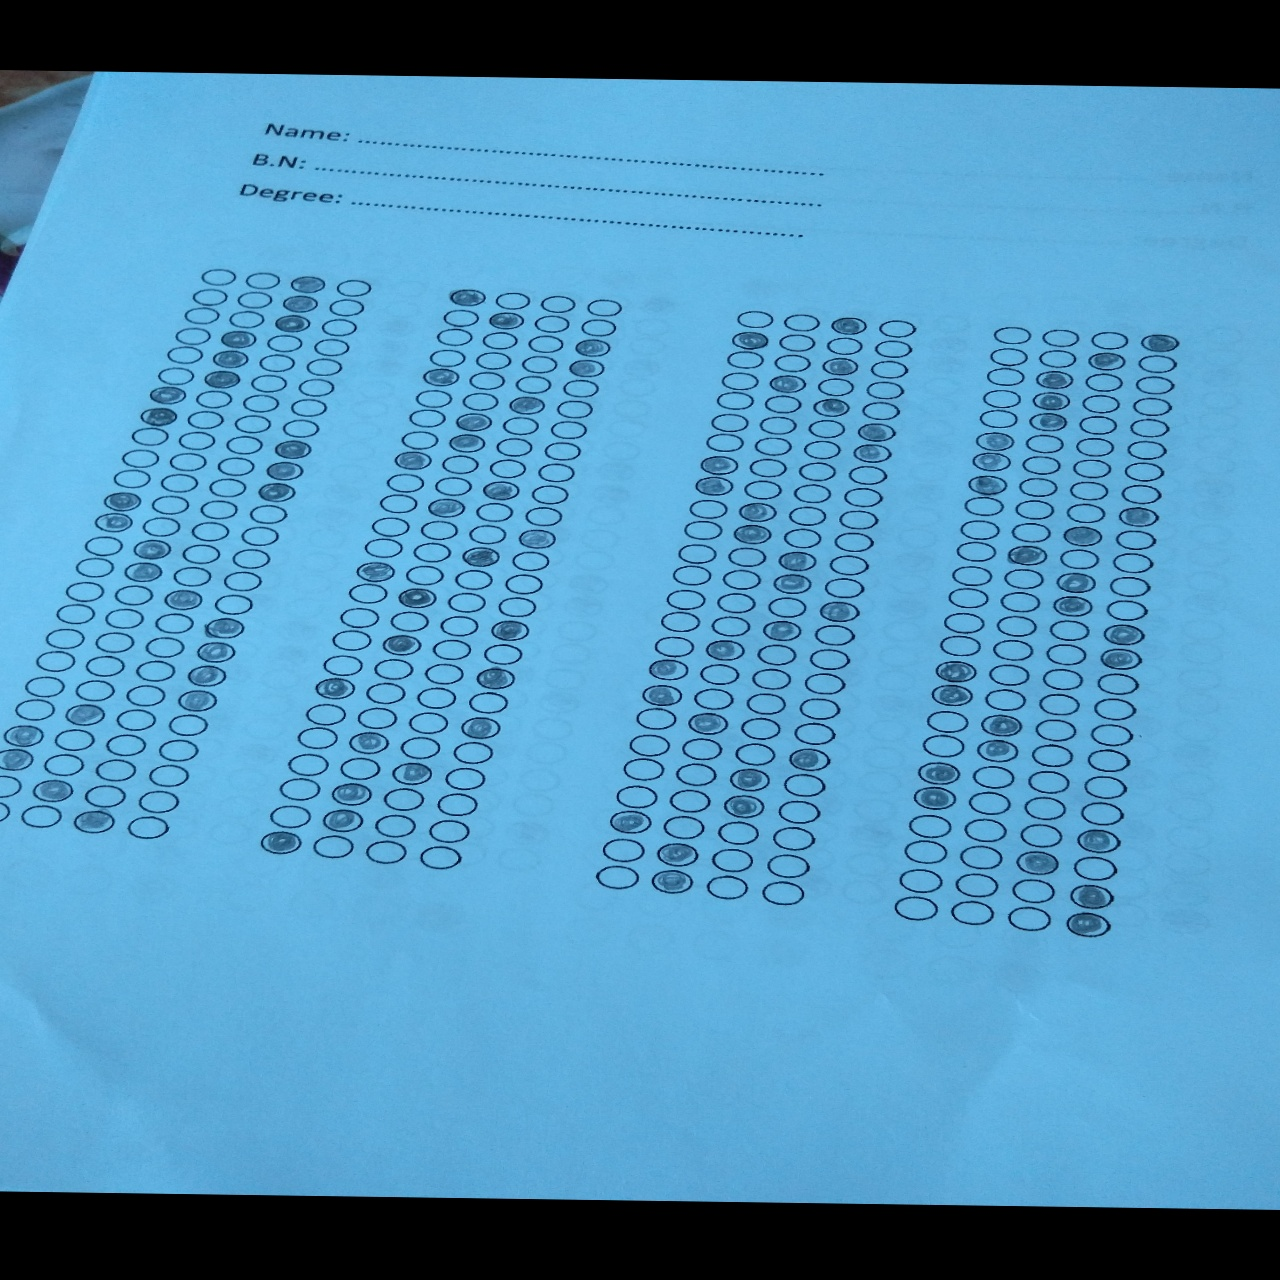not-c: (594, 864, 641, 891), (765, 852, 812, 879), (1010, 877, 1057, 904), (703, 874, 751, 900), (708, 847, 754, 874), (771, 825, 817, 852), (903, 838, 949, 864), (948, 899, 995, 925), (953, 872, 1000, 898), (381, 787, 425, 813), (442, 767, 486, 794), (275, 777, 321, 803), (295, 726, 341, 751), (760, 880, 805, 906), (715, 819, 761, 845), (1095, 670, 1141, 696), (1019, 822, 1064, 847), (907, 813, 953, 839), (898, 869, 944, 894), (958, 844, 1003, 870), (1006, 905, 1051, 931), (355, 704, 399, 731), (783, 772, 826, 799), (798, 696, 842, 723), (125, 815, 170, 840), (309, 835, 354, 860), (418, 844, 463, 870), (372, 813, 416, 839), (336, 756, 381, 782), (667, 788, 712, 813), (776, 799, 821, 825), (662, 815, 707, 840), (1080, 801, 1124, 826), (964, 817, 1008, 843), (893, 896, 938, 921), (1073, 856, 1117, 881), (435, 792, 481, 817), (1033, 717, 1078, 742), (83, 783, 127, 809), (267, 804, 311, 830), (399, 735, 442, 761), (302, 701, 346, 727), (622, 756, 666, 782), (617, 783, 660, 809), (792, 720, 836, 745), (692, 686, 735, 712), (921, 734, 965, 760), (1083, 774, 1126, 799), (19, 804, 63, 829), (365, 839, 409, 864), (428, 819, 472, 844), (450, 741, 495, 765), (286, 753, 331, 777), (414, 686, 458, 710), (320, 653, 365, 678), (387, 608, 431, 633), (347, 581, 392, 606), (501, 571, 545, 595), (987, 662, 1032, 687), (1041, 667, 1085, 692), (1085, 748, 1130, 772), (1022, 796, 1067, 821), (602, 837, 645, 863), (406, 710, 449, 735), (467, 690, 510, 715), (430, 638, 474, 662), (331, 628, 374, 653), (402, 563, 445, 587), (803, 670, 846, 695), (750, 666, 794, 690), (733, 741, 776, 765), (674, 762, 717, 787), (1094, 696, 1137, 721), (1039, 692, 1082, 716), (1028, 769, 1071, 794), (422, 662, 467, 686), (481, 642, 525, 666), (338, 606, 382, 629), (436, 614, 481, 638), (493, 595, 538, 619), (983, 688, 1028, 712), (925, 709, 969, 733), (971, 765, 1015, 789), (74, 556, 116, 580), (104, 733, 147, 757), (812, 622, 855, 647), (744, 692, 787, 716), (808, 648, 853, 670), (53, 728, 96, 751), (157, 738, 200, 762), (148, 764, 191, 788), (94, 758, 137, 782), (137, 790, 181, 813), (363, 681, 407, 704), (444, 591, 488, 614), (450, 567, 493, 591), (823, 576, 866, 599), (670, 564, 714, 587), (659, 610, 702, 633), (634, 707, 678, 730), (680, 736, 723, 760), (697, 663, 741, 687), (1030, 743, 1074, 767), (1089, 724, 1132, 748), (968, 790, 1012, 813), (182, 542, 223, 566), (113, 583, 154, 607), (720, 568, 764, 591), (222, 568, 264, 592), (213, 593, 256, 617), (115, 708, 157, 731), (43, 753, 86, 776), (527, 483, 570, 506), (440, 452, 482, 476), (492, 435, 535, 458), (826, 553, 869, 577), (676, 542, 719, 565), (738, 717, 781, 741), (958, 518, 1000, 542), (831, 531, 874, 553), (724, 546, 768, 568), (665, 588, 708, 611), (714, 592, 757, 614), (764, 595, 808, 618), (653, 635, 696, 658), (755, 644, 798, 666), (627, 734, 670, 756), (945, 587, 988, 610), (64, 579, 105, 602), (154, 611, 195, 634), (143, 635, 184, 659), (94, 631, 135, 654), (74, 679, 115, 702), (14, 697, 55, 721), (486, 456, 527, 479), (535, 461, 576, 484), (406, 407, 447, 430), (1107, 599, 1148, 622), (168, 451, 210, 474), (372, 658, 414, 680), (363, 537, 406, 559), (368, 517, 410, 539), (417, 519, 459, 542), (522, 505, 564, 527), (377, 492, 420, 515), (530, 312, 572, 334), (877, 316, 919, 339), (846, 464, 888, 486), (707, 617, 751, 638), (1074, 436, 1116, 458), (1123, 461, 1165, 483), (955, 540, 998, 563), (949, 565, 992, 587), (1114, 529, 1156, 551), (1111, 552, 1153, 574), (1000, 591, 1042, 613), (942, 612, 985, 634), (939, 635, 981, 658), (992, 639, 1034, 661), (995, 614, 1037, 636), (1048, 620, 1090, 642), (173, 565, 213, 588), (86, 654, 125, 678), (230, 547, 271, 570), (83, 535, 124, 557), (55, 602, 96, 625), (103, 607, 144, 629), (43, 627, 84, 649), (34, 649, 75, 672), (135, 660, 176, 682), (125, 685, 166, 707), (166, 714, 207, 736), (467, 523, 508, 545), (542, 441, 583, 463), (399, 429, 440, 451), (1010, 520, 1051, 543), (1058, 549, 1099, 571), (1046, 644, 1087, 666), (111, 468, 154, 489), (157, 472, 199, 493), (149, 493, 191, 515), (472, 501, 515, 522), (411, 388, 454, 409), (498, 415, 540, 436), (546, 418, 588, 440), (558, 377, 600, 399), (512, 374, 554, 395), (425, 348, 468, 369), (472, 350, 515, 372), (524, 333, 566, 354), (434, 326, 476, 347), (491, 290, 533, 311), (536, 293, 578, 314), (576, 316, 618, 338), (733, 309, 775, 331), (822, 335, 864, 356), (775, 332, 817, 353), (714, 390, 756, 411), (761, 393, 803, 414), (815, 376, 857, 397), (869, 359, 911, 380), (805, 418, 847, 440), (681, 520, 723, 542), (779, 527, 822, 549), (992, 325, 1034, 346), (1037, 348, 1080, 369), (983, 365, 1026, 386), (981, 388, 1023, 409), (1076, 414, 1118, 435), (1080, 393, 1122, 414), (1136, 353, 1178, 374), (962, 495, 1005, 516), (1125, 440, 1167, 461), (1003, 568, 1046, 590), (1109, 576, 1151, 597), (216, 456, 257, 477), (120, 448, 161, 469), (139, 516, 181, 537), (190, 520, 231, 542), (23, 676, 64, 697), (433, 476, 474, 497), (384, 472, 425, 493), (465, 370, 506, 392), (518, 354, 559, 375), (583, 297, 624, 318), (873, 338, 914, 359), (772, 353, 813, 374), (724, 349, 765, 370), (719, 370, 760, 392), (864, 380, 905, 401), (860, 401, 901, 422), (708, 411, 749, 433), (797, 461, 838, 482), (742, 479, 783, 501), (840, 486, 881, 508), (787, 505, 828, 526), (1039, 327, 1080, 348), (1089, 329, 1130, 350), (989, 346, 1030, 367), (976, 408, 1017, 429), (1083, 372, 1124, 393), (1021, 454, 1062, 475), (1017, 477, 1058, 498), (1015, 499, 1056, 520), (1065, 502, 1107, 523), (1121, 484, 1162, 505), (205, 477, 245, 498), (411, 542, 451, 563), (457, 392, 499, 411), (552, 399, 594, 418), (751, 436, 794, 456), (791, 483, 833, 503), (838, 510, 880, 530), (687, 499, 729, 519), (1131, 397, 1173, 417), (1129, 418, 1171, 438), (1023, 433, 1065, 452), (1070, 459, 1112, 479), (1069, 481, 1111, 501), (511, 550, 549, 572), (198, 499, 239, 519), (248, 504, 290, 524), (239, 526, 280, 546), (479, 331, 520, 350), (440, 308, 481, 328), (779, 312, 821, 332), (757, 415, 798, 435), (704, 433, 745, 452), (1133, 375, 1175, 395), (290, 397, 328, 418), (233, 414, 272, 435), (241, 393, 280, 414), (248, 373, 287, 394), (264, 333, 302, 354), (225, 435, 264, 456), (801, 440, 840, 459), (747, 458, 787, 478), (335, 277, 373, 298), (227, 309, 265, 331), (320, 316, 358, 338), (313, 336, 350, 358), (258, 352, 295, 373), (131, 425, 169, 447), (243, 271, 281, 291), (234, 290, 273, 309), (305, 358, 343, 377), (297, 377, 335, 397), (281, 418, 320, 438), (156, 366, 195, 386), (199, 267, 237, 287), (327, 297, 365, 316), (191, 287, 229, 307), (183, 306, 220, 326), (173, 326, 211, 346), (165, 345, 203, 365), (195, 389, 232, 409), (186, 409, 224, 429), (178, 430, 216, 450)
taken-c: (1067, 883, 1117, 911), (1014, 847, 1063, 876), (1073, 828, 1123, 855), (913, 760, 964, 787), (911, 784, 960, 811), (930, 658, 980, 683), (1065, 912, 1114, 939), (973, 738, 1022, 764), (975, 712, 1024, 737), (925, 682, 975, 707), (1096, 646, 1145, 670), (311, 676, 358, 702), (654, 840, 699, 867), (319, 808, 365, 833), (474, 666, 519, 692), (728, 767, 771, 794), (722, 794, 765, 821), (1051, 571, 1098, 595), (964, 474, 1010, 498), (971, 428, 1017, 452), (648, 869, 693, 894), (70, 810, 116, 835), (328, 783, 374, 808), (377, 633, 423, 658), (486, 619, 532, 644), (1058, 524, 1104, 549), (1101, 622, 1148, 646), (29, 778, 74, 803), (259, 830, 304, 855), (389, 761, 434, 785), (396, 587, 441, 612), (646, 658, 690, 682), (968, 449, 1013, 474), (608, 809, 651, 835), (346, 731, 392, 755), (686, 712, 731, 735), (1005, 543, 1050, 566), (459, 544, 503, 568), (702, 636, 745, 661), (458, 717, 503, 741), (787, 748, 831, 771), (1048, 595, 1095, 618), (1115, 506, 1162, 529), (760, 620, 805, 642), (1032, 369, 1077, 392), (354, 561, 397, 585), (515, 527, 558, 551), (639, 683, 683, 706), (1138, 333, 1183, 355), (205, 617, 247, 640), (173, 688, 216, 712), (2, 724, 45, 748), (424, 496, 467, 519), (505, 394, 547, 417), (818, 600, 862, 622), (1028, 390, 1074, 411), (1083, 350, 1129, 372), (195, 641, 236, 665), (188, 663, 229, 687), (63, 703, 105, 726), (478, 479, 520, 502), (390, 449, 433, 471), (1024, 411, 1069, 433), (278, 293, 319, 315), (210, 349, 251, 372), (256, 481, 297, 503), (93, 512, 134, 535), (162, 588, 203, 611), (445, 433, 486, 455), (452, 411, 493, 434), (420, 367, 461, 389), (828, 315, 869, 338), (821, 355, 862, 377), (857, 422, 898, 444), (851, 442, 892, 464), (699, 455, 740, 477), (735, 501, 776, 523), (776, 550, 817, 572), (693, 476, 733, 498), (286, 273, 327, 294), (218, 328, 259, 349), (265, 461, 306, 482), (102, 491, 143, 512), (130, 539, 171, 560), (566, 358, 607, 379), (573, 338, 614, 359), (488, 309, 529, 331), (445, 287, 486, 308), (730, 329, 771, 350), (765, 373, 806, 394), (810, 397, 851, 418), (731, 524, 772, 545), (771, 573, 812, 594), (272, 312, 312, 333), (202, 369, 241, 390), (147, 384, 186, 406), (122, 561, 162, 583), (271, 440, 312, 459), (139, 406, 178, 427)
